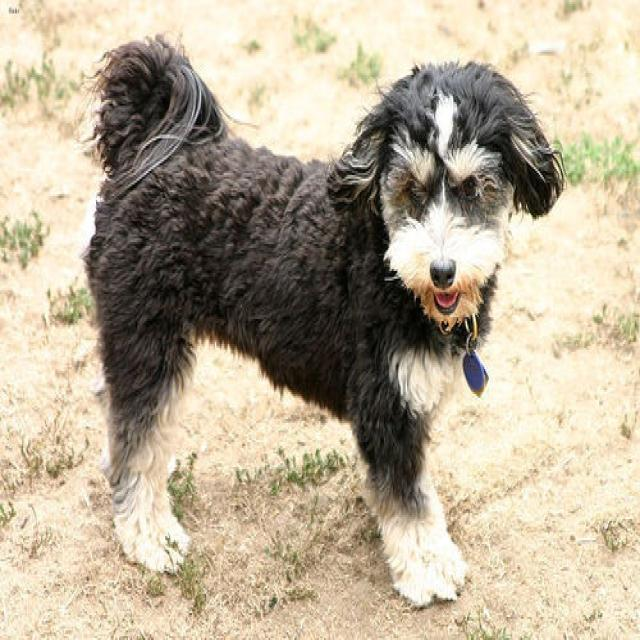dog-havanese: (72, 31, 573, 623)
